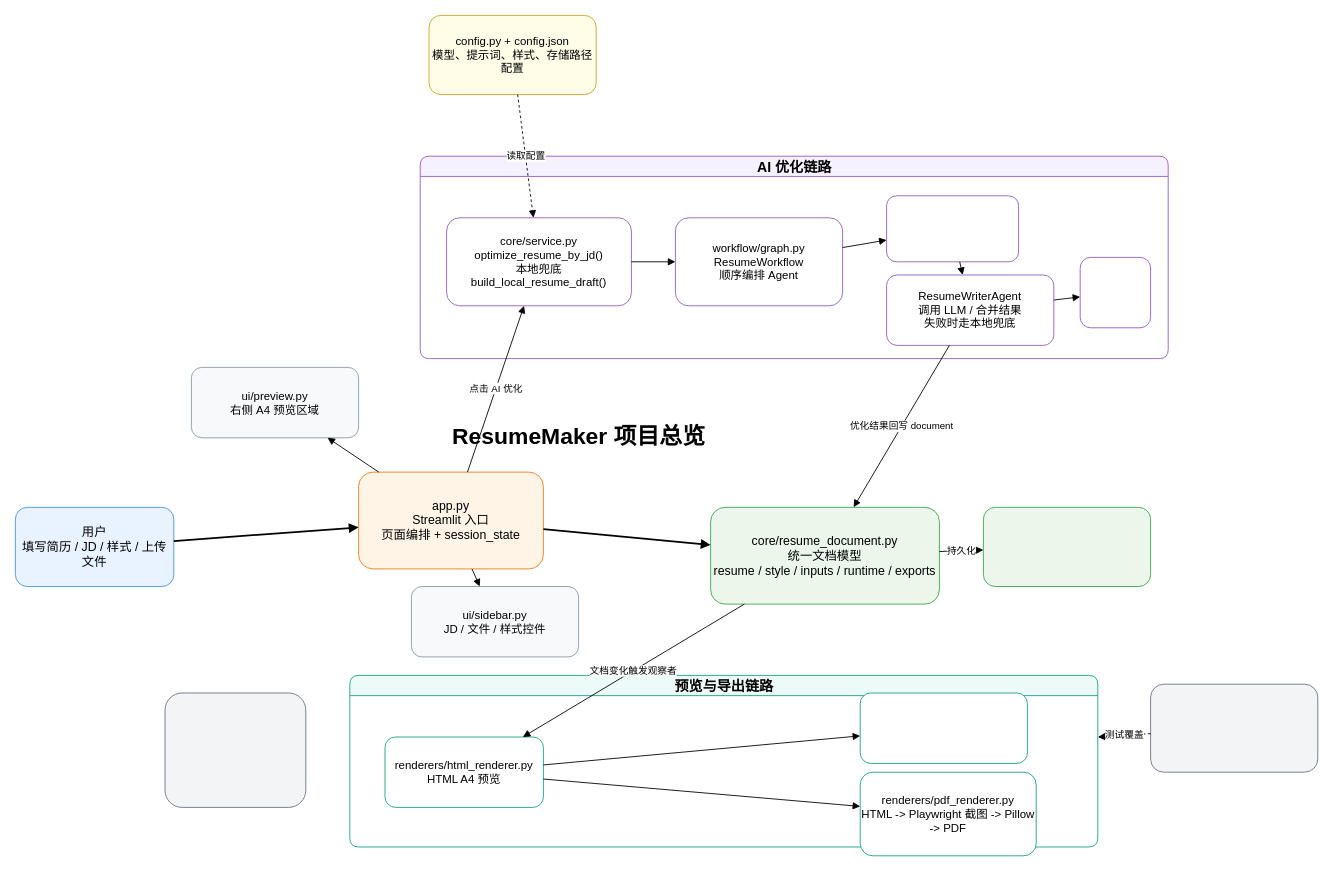
Image size: 1333x871. Some labels were removed from this diagram. The shapes that lost their labels are listed below. From the top down, each one's centre as x and y in pixels, then its label:
At (x=952, y=228): "InfoCollectorAgent 整理输入事实".
At (x=1115, y=292): "core/llm.py ChatOpenAI JSON 提取".
At (x=1067, y=546): "core/data.py 读取 / 保存 / 归一化 data/resume_data.json".
At (x=943, y=727): "renderers/markdown_renderer.py Markdown 导出".
At (x=1234, y=727): "tests/ 渲染、文档模型、核心兼容、Streamlit E2E 测试".
At (x=235, y=749): "tools/ permission / file_tools / web_tool / ocr_tool 扩展入口：权限、文件解析、网页抓取、OCR 占位".
